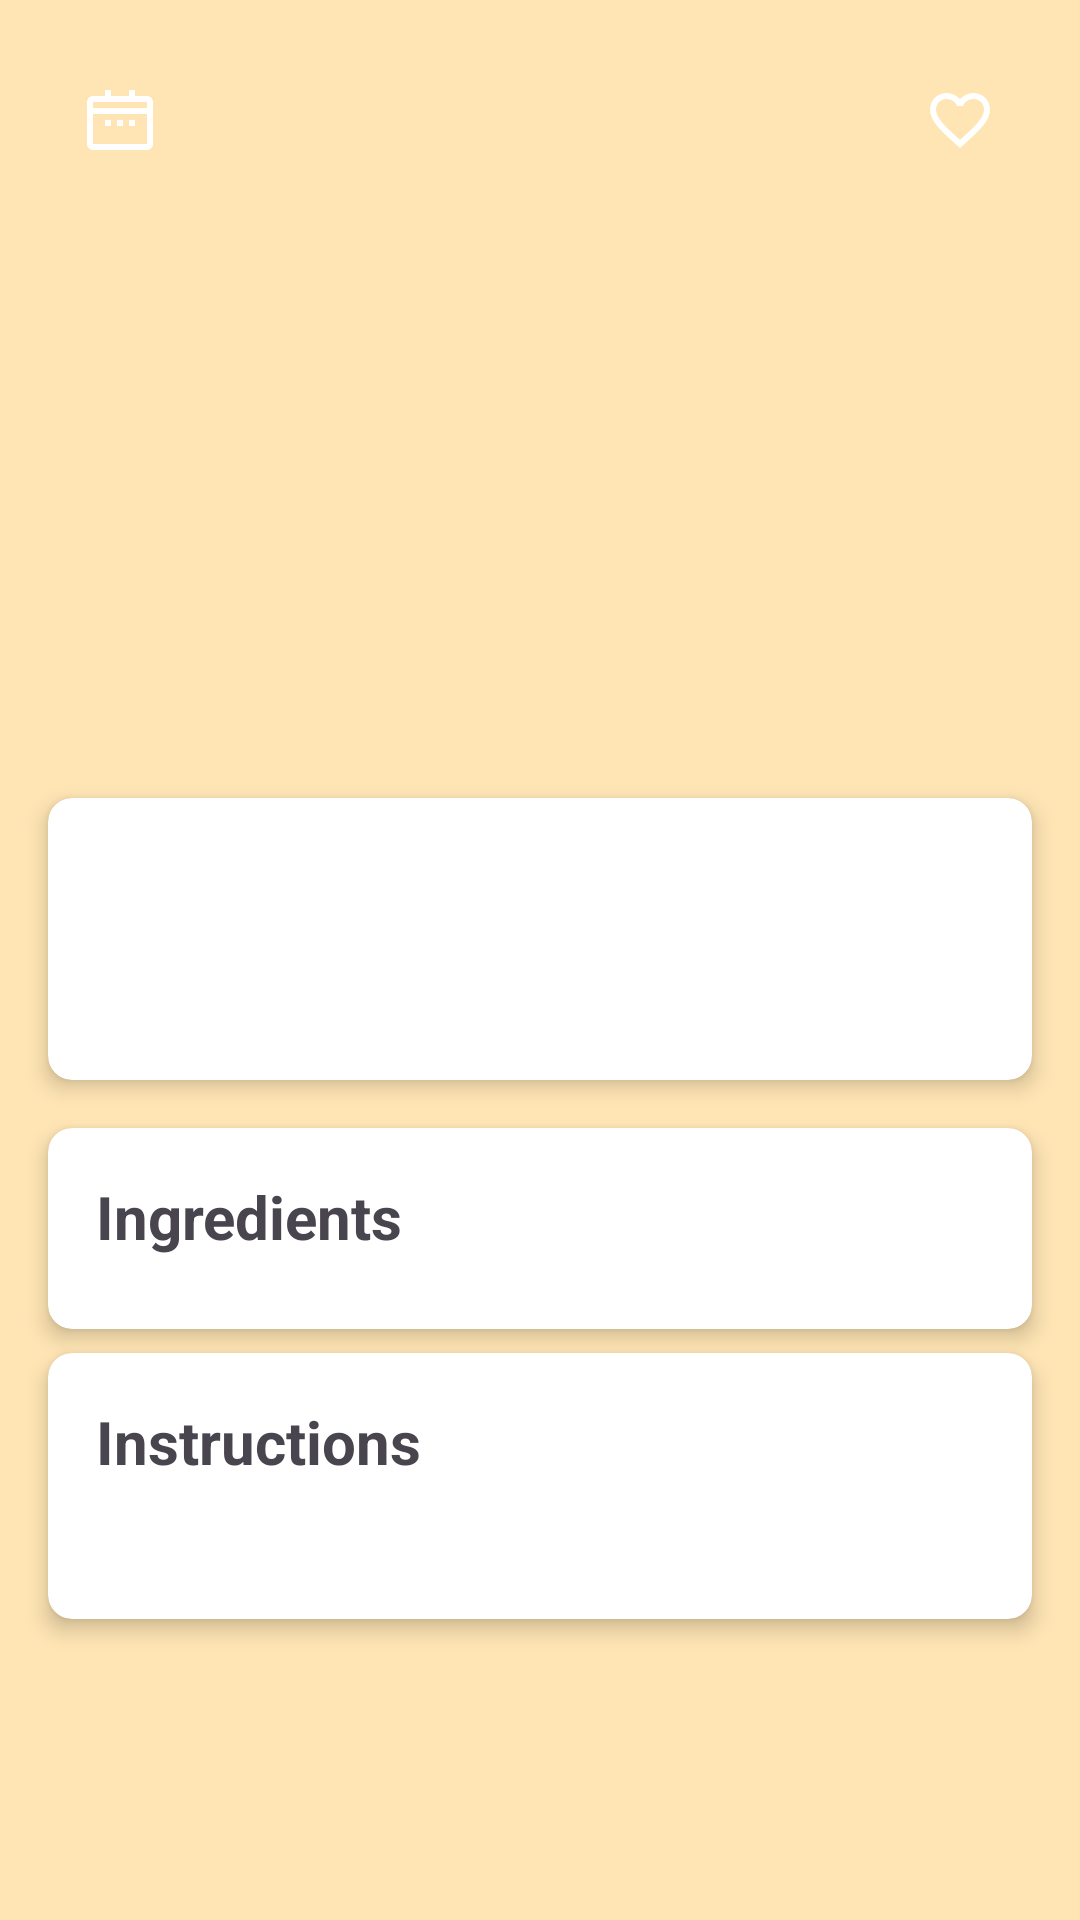

Where icons sit on this 1080×1920 app screen, as region(x1, y1, x2, y2):
favorite border: region(930, 93, 990, 148)
planner: region(87, 90, 153, 150)
